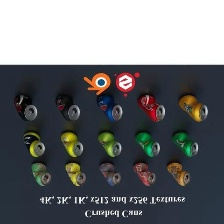can: (134, 89, 172, 125), (174, 89, 211, 124), (52, 89, 84, 126), (9, 91, 42, 124), (95, 90, 126, 124), (16, 128, 48, 159), (160, 159, 194, 188), (170, 127, 201, 158), (132, 128, 163, 159), (93, 129, 125, 159), (58, 128, 87, 158), (60, 160, 89, 188), (130, 159, 157, 189), (97, 159, 124, 187), (29, 161, 53, 189)
